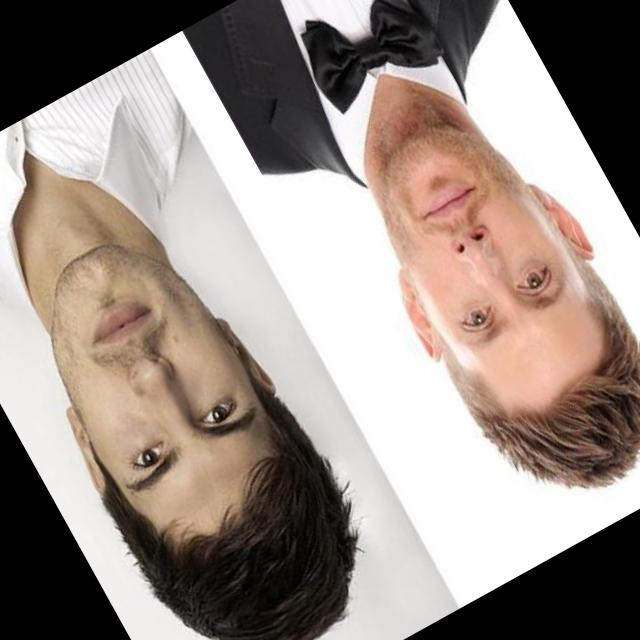bareface: (6, 200, 398, 640), (351, 85, 640, 492)
